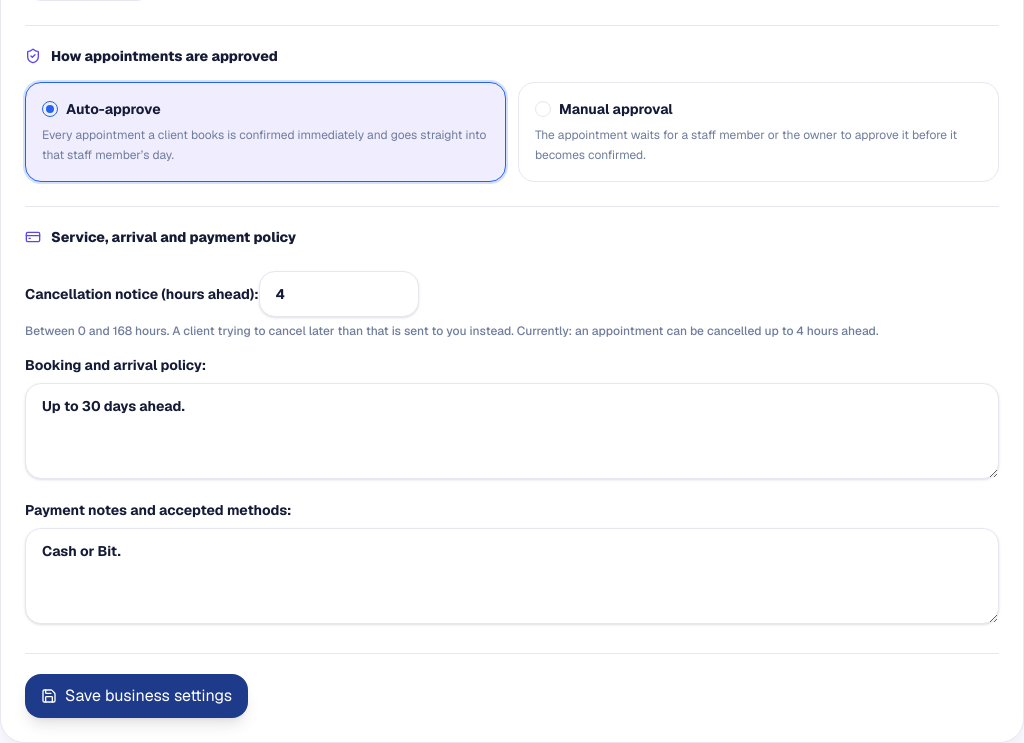
Test: business settings screen › shows the field that was refused, not the generic validation line
(page scrolled)
Click the button "Save business settings": [137, 696] box [25,674,248,718]
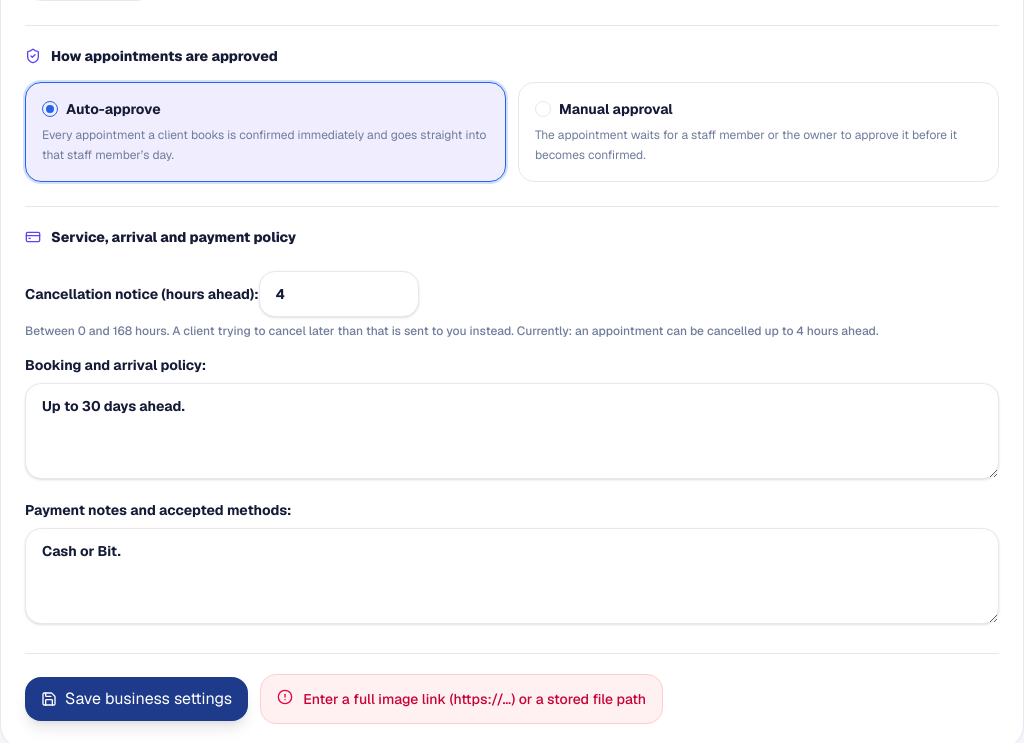
Expected: the message shows "Enter a full image link", [303,690,646,708]
